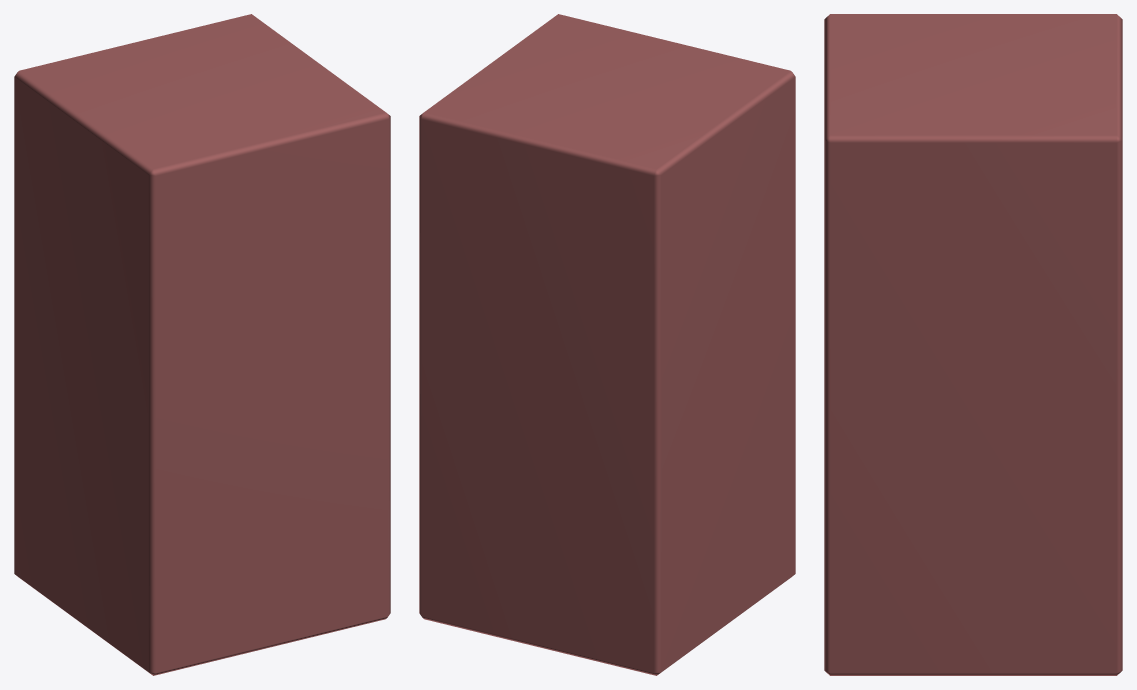
File: Block2x4.fbx
The picture shows the model from 3 angles, left to right: view 1: azimuth 30°, elevation 25°; view 2: azimuth 150°, elevation 25°; view 3: azimuth 270°, elevation 25°; orthographic projection. The views are drawn at different scales.
Parts seen in each view (by area): view 1: Block2x4Inch; view 2: Block2x4Inch; view 3: Block2x4Inch.
Part boxes in pixels (<box>): Block2x4Inch: <box>14,14,390,675</box>; Block2x4Inch: <box>419,14,795,675</box>; Block2x4Inch: <box>824,14,1122,675</box>.
Bounding box in the file's own units: 5.08 × 10.16 × 5.08.
